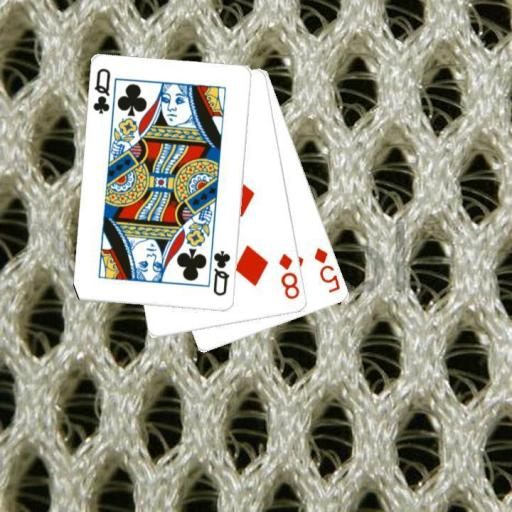card-corner: (312, 244, 342, 294), (276, 250, 301, 302), (210, 247, 232, 298), (90, 65, 112, 116)
